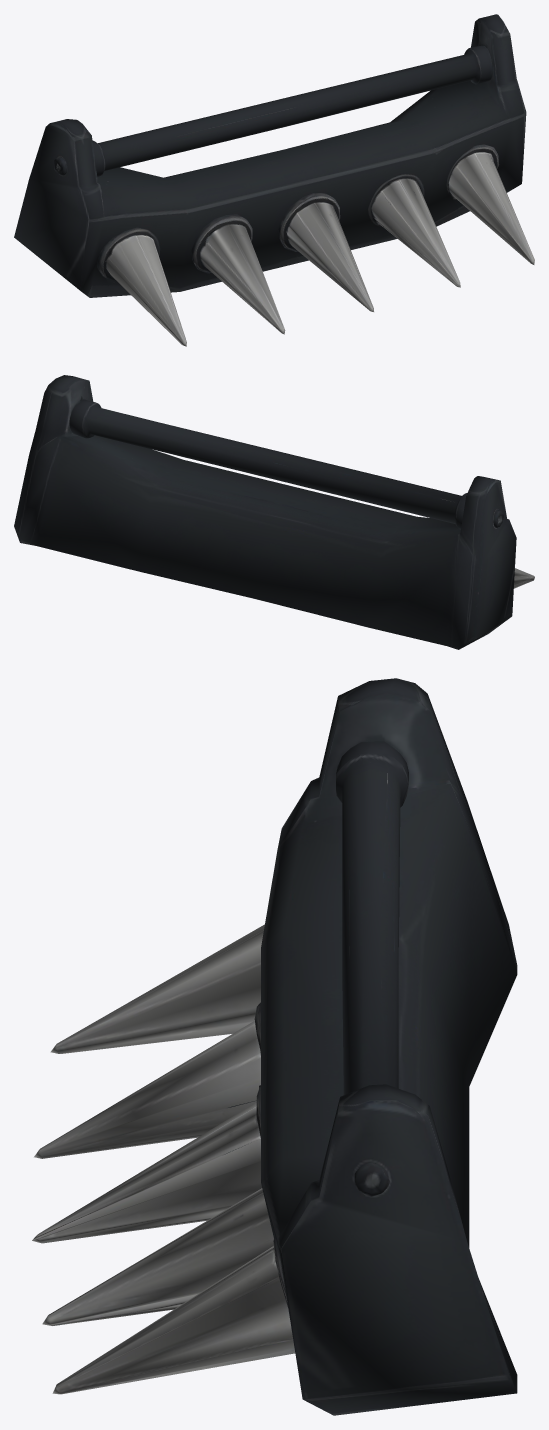
Rendered from bunker-spike_bumper.glb.
The picture shows the model from 3 angles, top to bottom: view 1: azimuth 30°, elevation 25°; view 2: azimuth 150°, elevation 25°; view 3: azimuth 270°, elevation 25°; orthographic projection. The views are drawn at different scales.
Parts seen in each view (by area): view 1: tripo_node_42d65729-f715-4113-a612-fa87ba7df4d6; view 2: tripo_node_42d65729-f715-4113-a612-fa87ba7df4d6; view 3: tripo_node_42d65729-f715-4113-a612-fa87ba7df4d6.
Boxes of the visible parts, <box> form: tripo_node_42d65729-f715-4113-a612-fa87ba7df4d6: <box>14,14,534,346</box>; tripo_node_42d65729-f715-4113-a612-fa87ba7df4d6: <box>14,375,534,649</box>; tripo_node_42d65729-f715-4113-a612-fa87ba7df4d6: <box>32,678,517,1415</box>.
Bounding box in the file's own units: 1.24 × 0.45 × 0.5668.
Materials: 1 (1 with a texture image).
